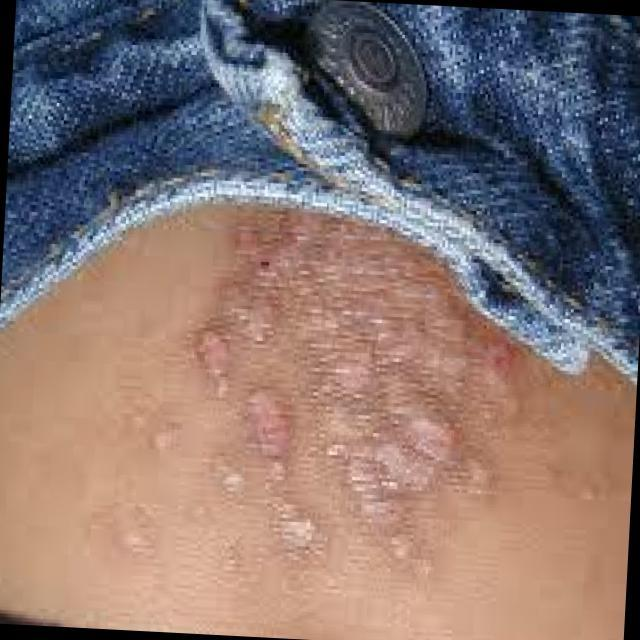Eczema: (118, 210, 516, 571)
